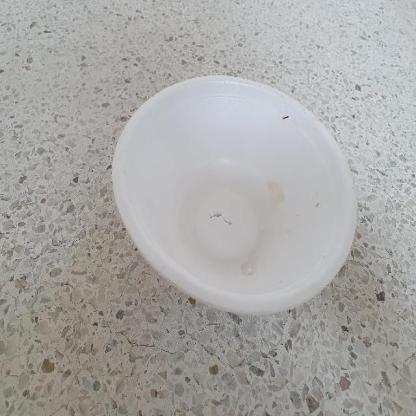Glass Cup: (112, 76, 359, 314), (112, 76, 357, 315)
